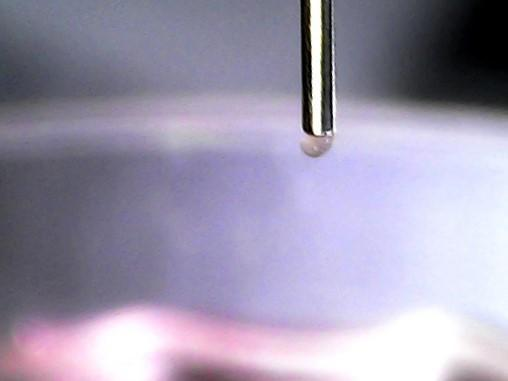water drop: (298, 128, 336, 160)
